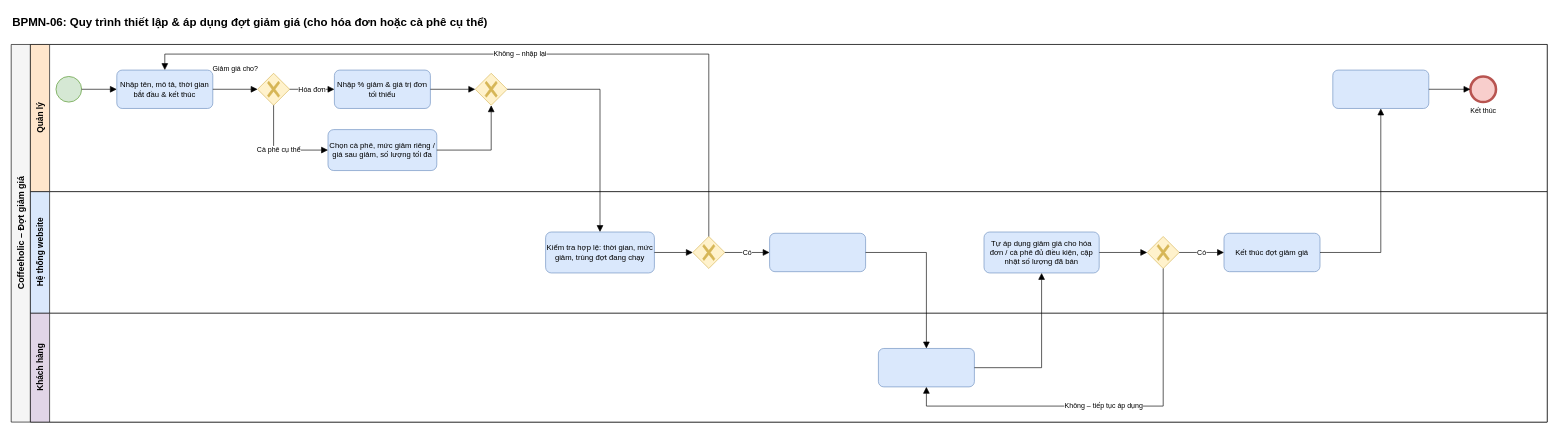
This 1558x433 diagram has some shape labels left out. The centre of each missing label's shape, as x and y in pixels:
"Có kế hoạch giảm giá" belongs at (x=68, y=89).
"Hết thời gian / hết số lượng?" belongs at (x=1163, y=252).
"Hợp lệ?" belongs at (x=708, y=252).
"Khách đặt hàng trong thời gian áp dụng" belongs at (x=926, y=367).
"Lưu & kích hoạt đợt giảm giá theo thời gian" belongs at (x=817, y=252).
"Xem thống kê hiệu quả đợt giảm giá" belongs at (x=1380, y=88).
